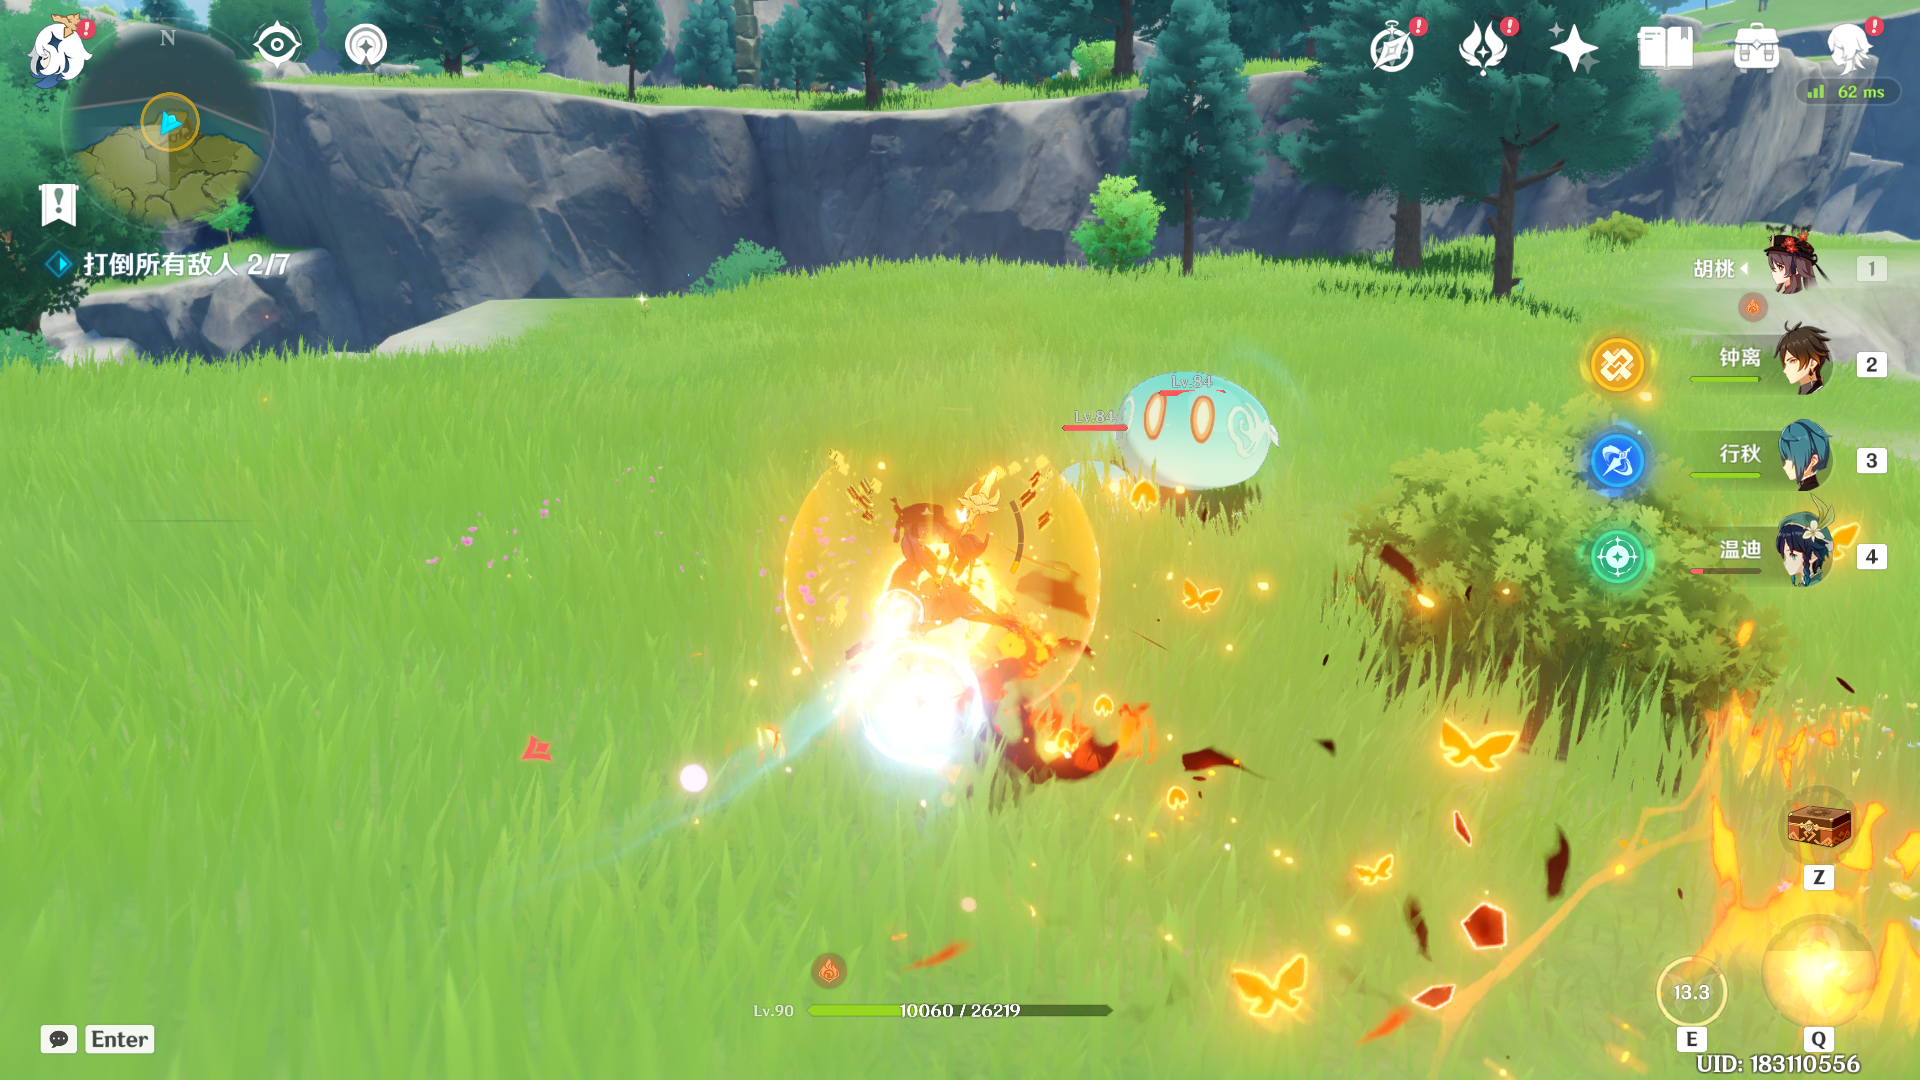slime: (1091, 345, 1294, 549)
